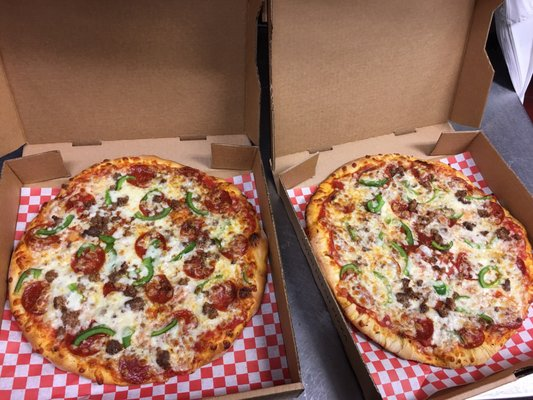sandwich: (8, 156, 265, 387), (306, 153, 533, 369)
